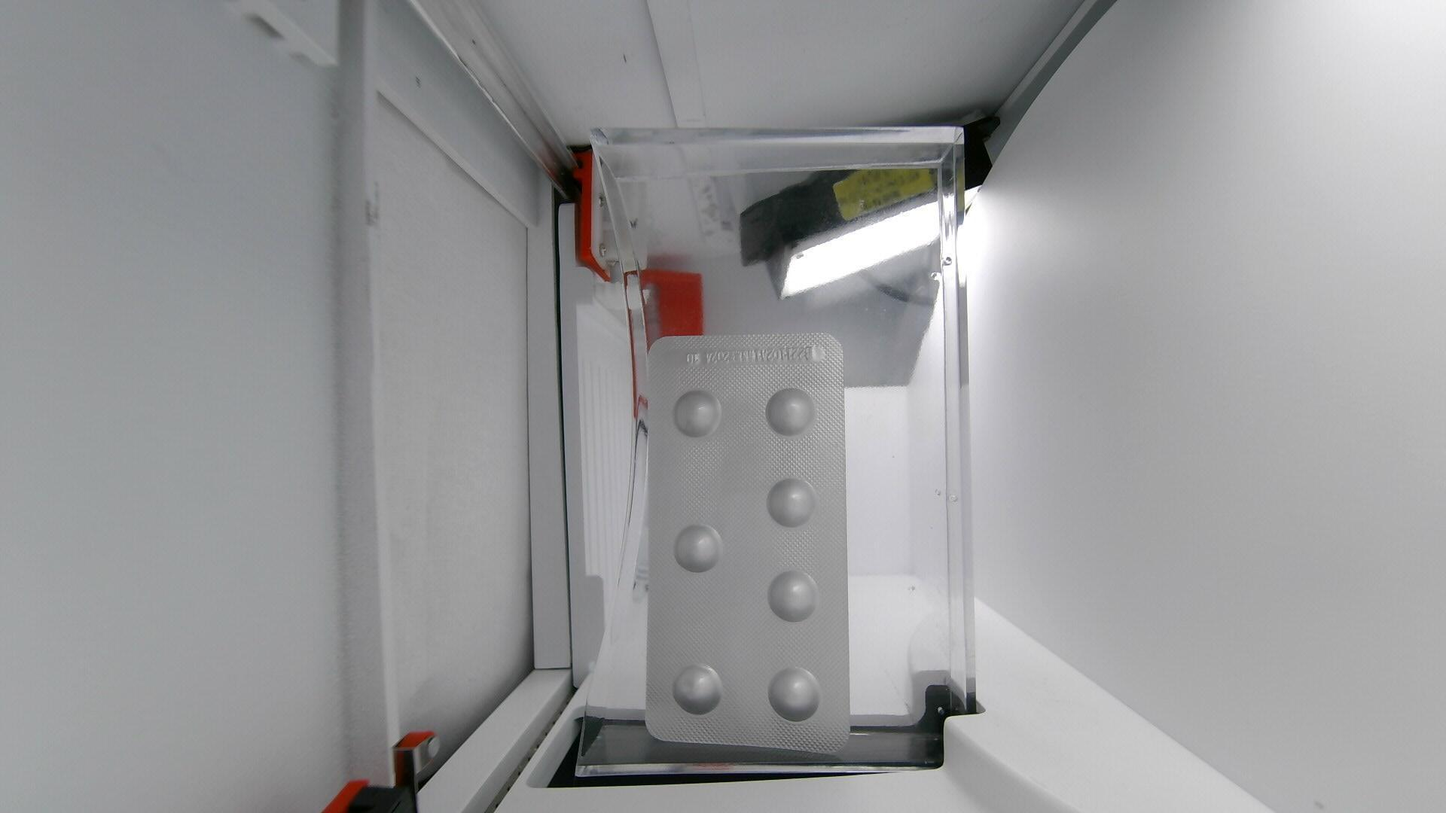Light Front: (645, 333, 849, 753)
Pill Front: (769, 667, 820, 721), (673, 664, 722, 714), (767, 479, 816, 527), (769, 572, 816, 621), (675, 525, 722, 572), (767, 389, 813, 434), (675, 391, 718, 437)
